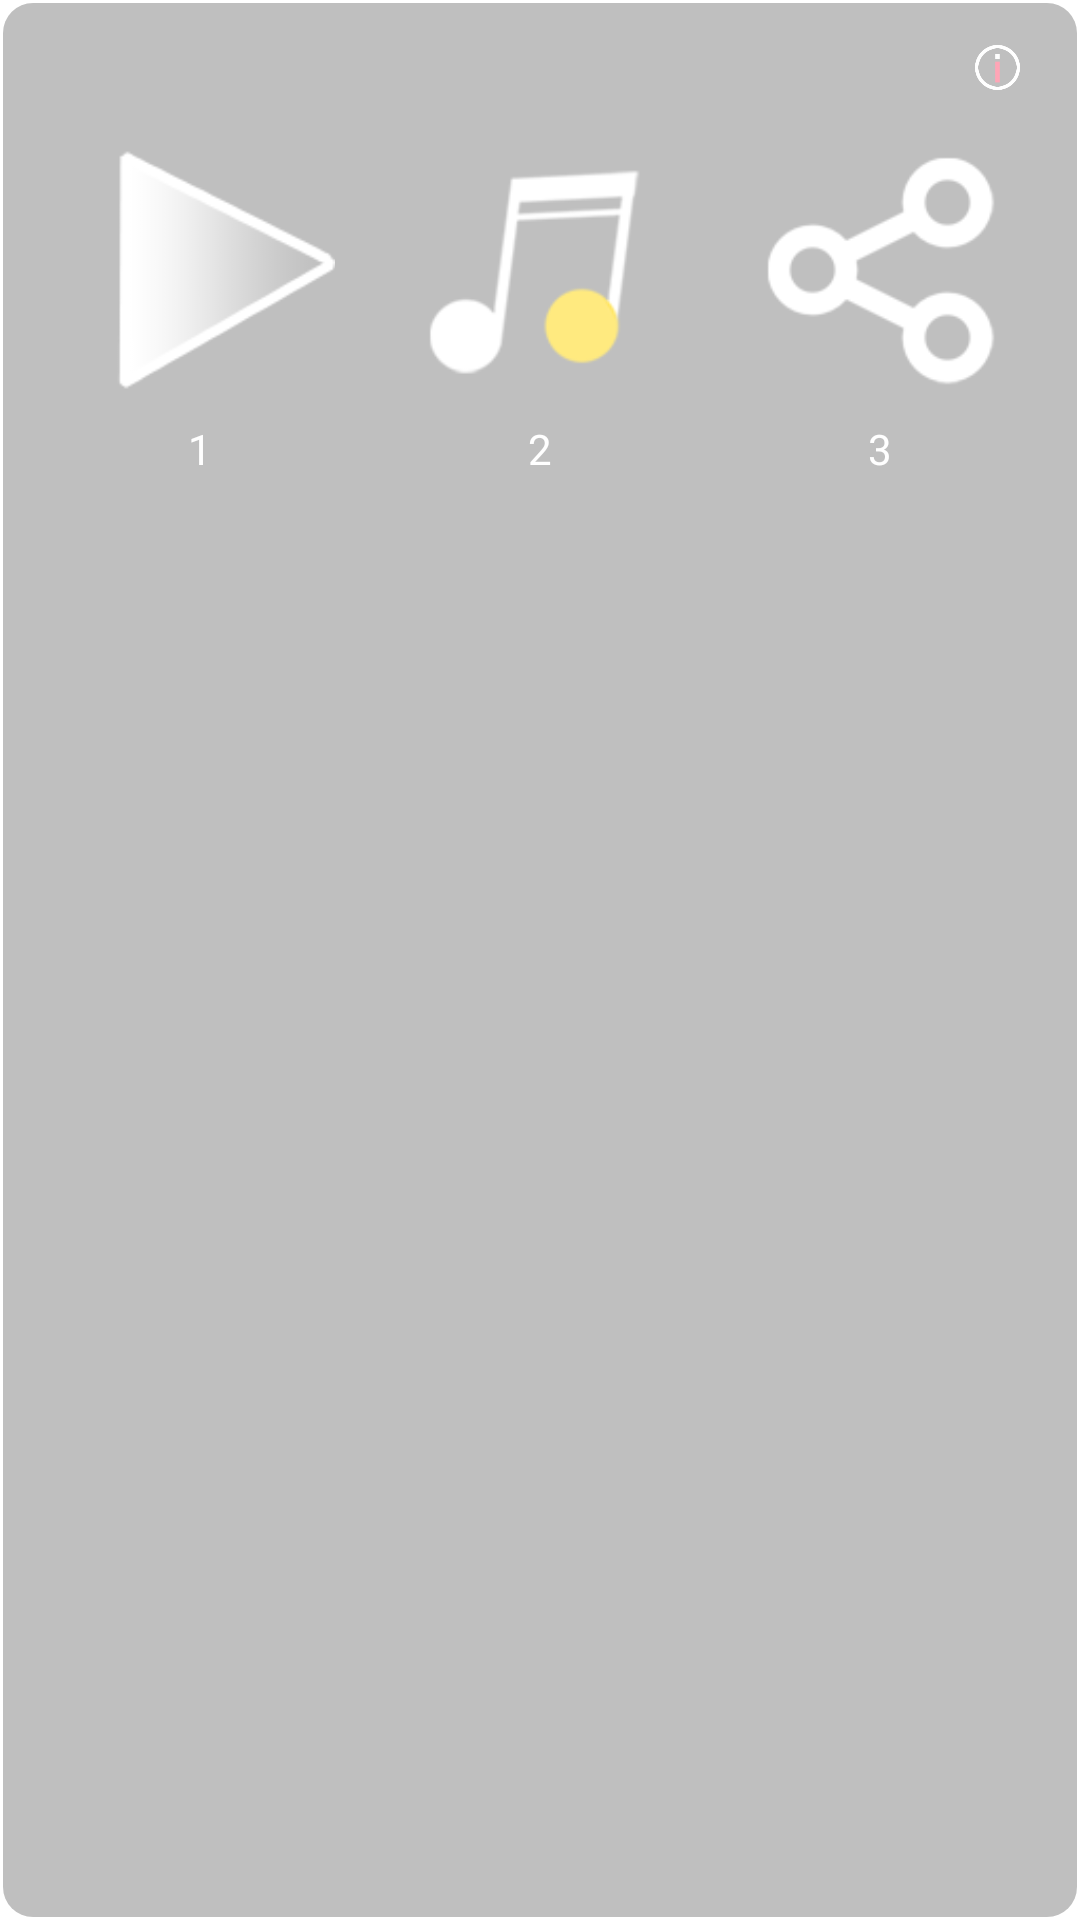

Icons on this 1080×1920 Android screen, each with its box as rect(x1, y1, x2, y2):
info: rect(975, 45, 1020, 90)
music: rect(430, 171, 638, 373)
play: rect(119, 152, 335, 388)
share: rect(768, 158, 993, 383)
